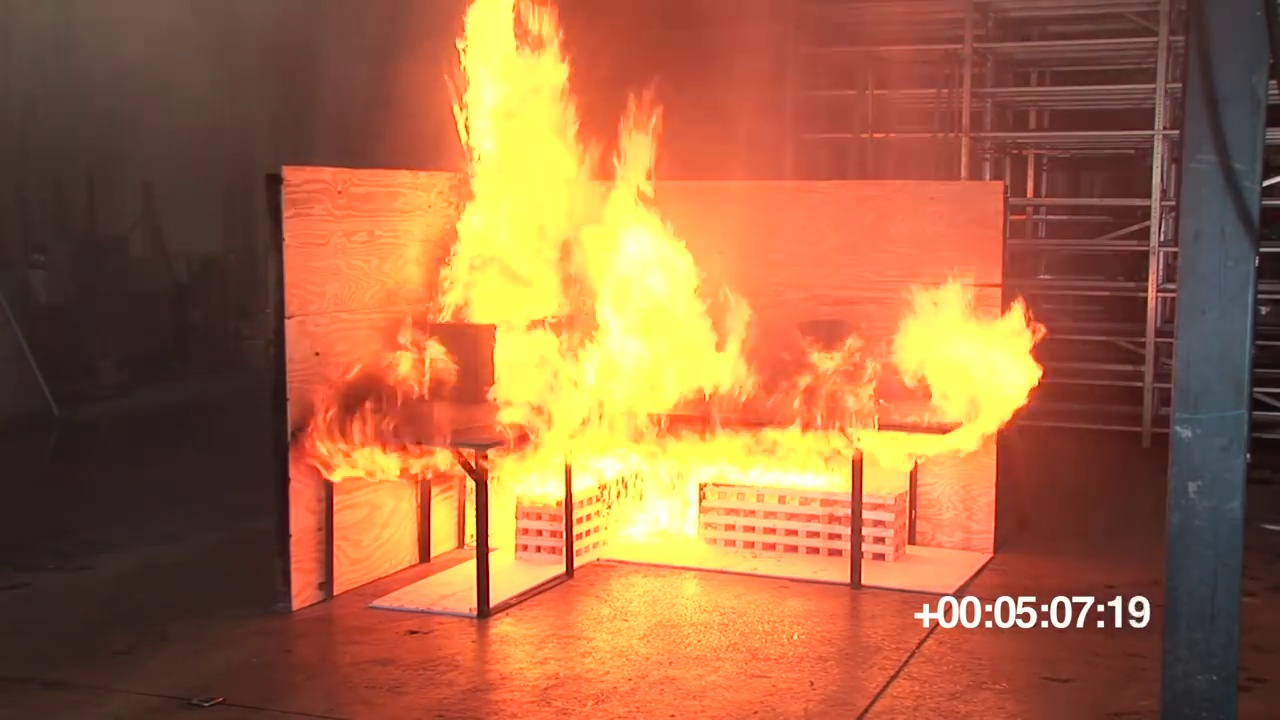fire: (397, 3, 760, 442), (514, 445, 848, 549), (896, 274, 1046, 440), (784, 313, 879, 433)
